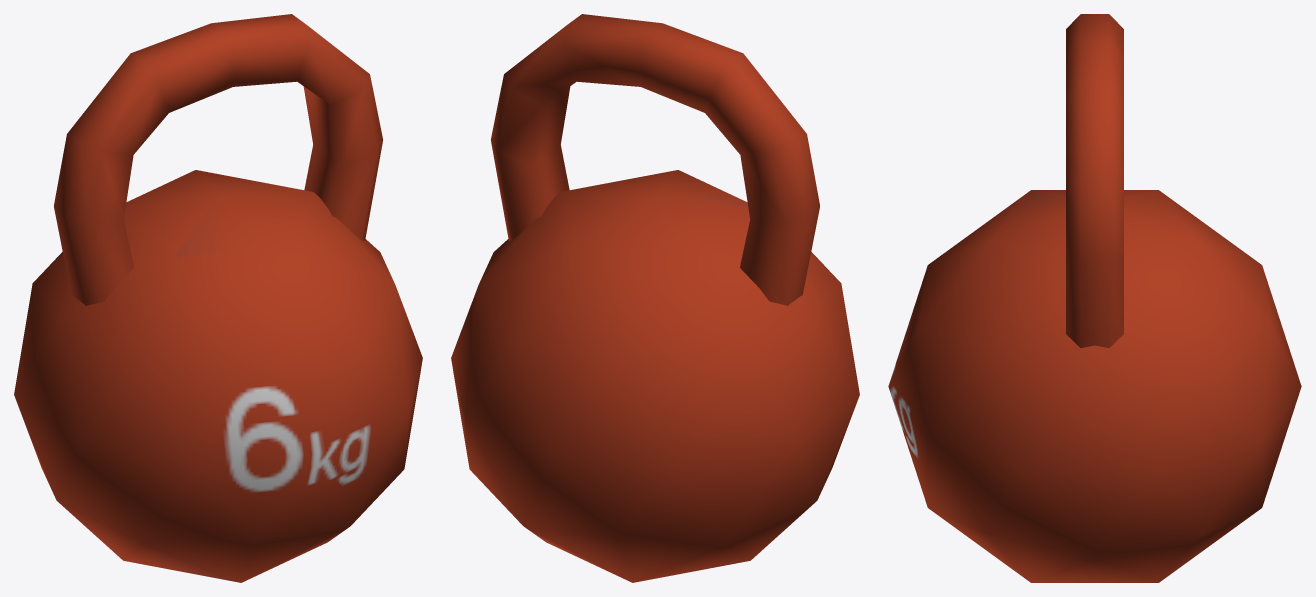
File: Kettlebell.fbx
3 views of the same model, side by side, from view 1: azimuth 30°, elevation 25°; view 2: azimuth 150°, elevation 25°; view 3: azimuth 270°, elevation 25° (orthographic).
Visible parts, largest first — view 1: Kettlebell; view 2: Kettlebell; view 3: Kettlebell.
Part boxes in pixels (bbox=[...]): Kettlebell: bbox=[14, 14, 422, 582]; Kettlebell: bbox=[451, 14, 859, 582]; Kettlebell: bbox=[888, 14, 1301, 582].
Bounding box in the file's own units: 21.49 × 30.35 × 22.59.
